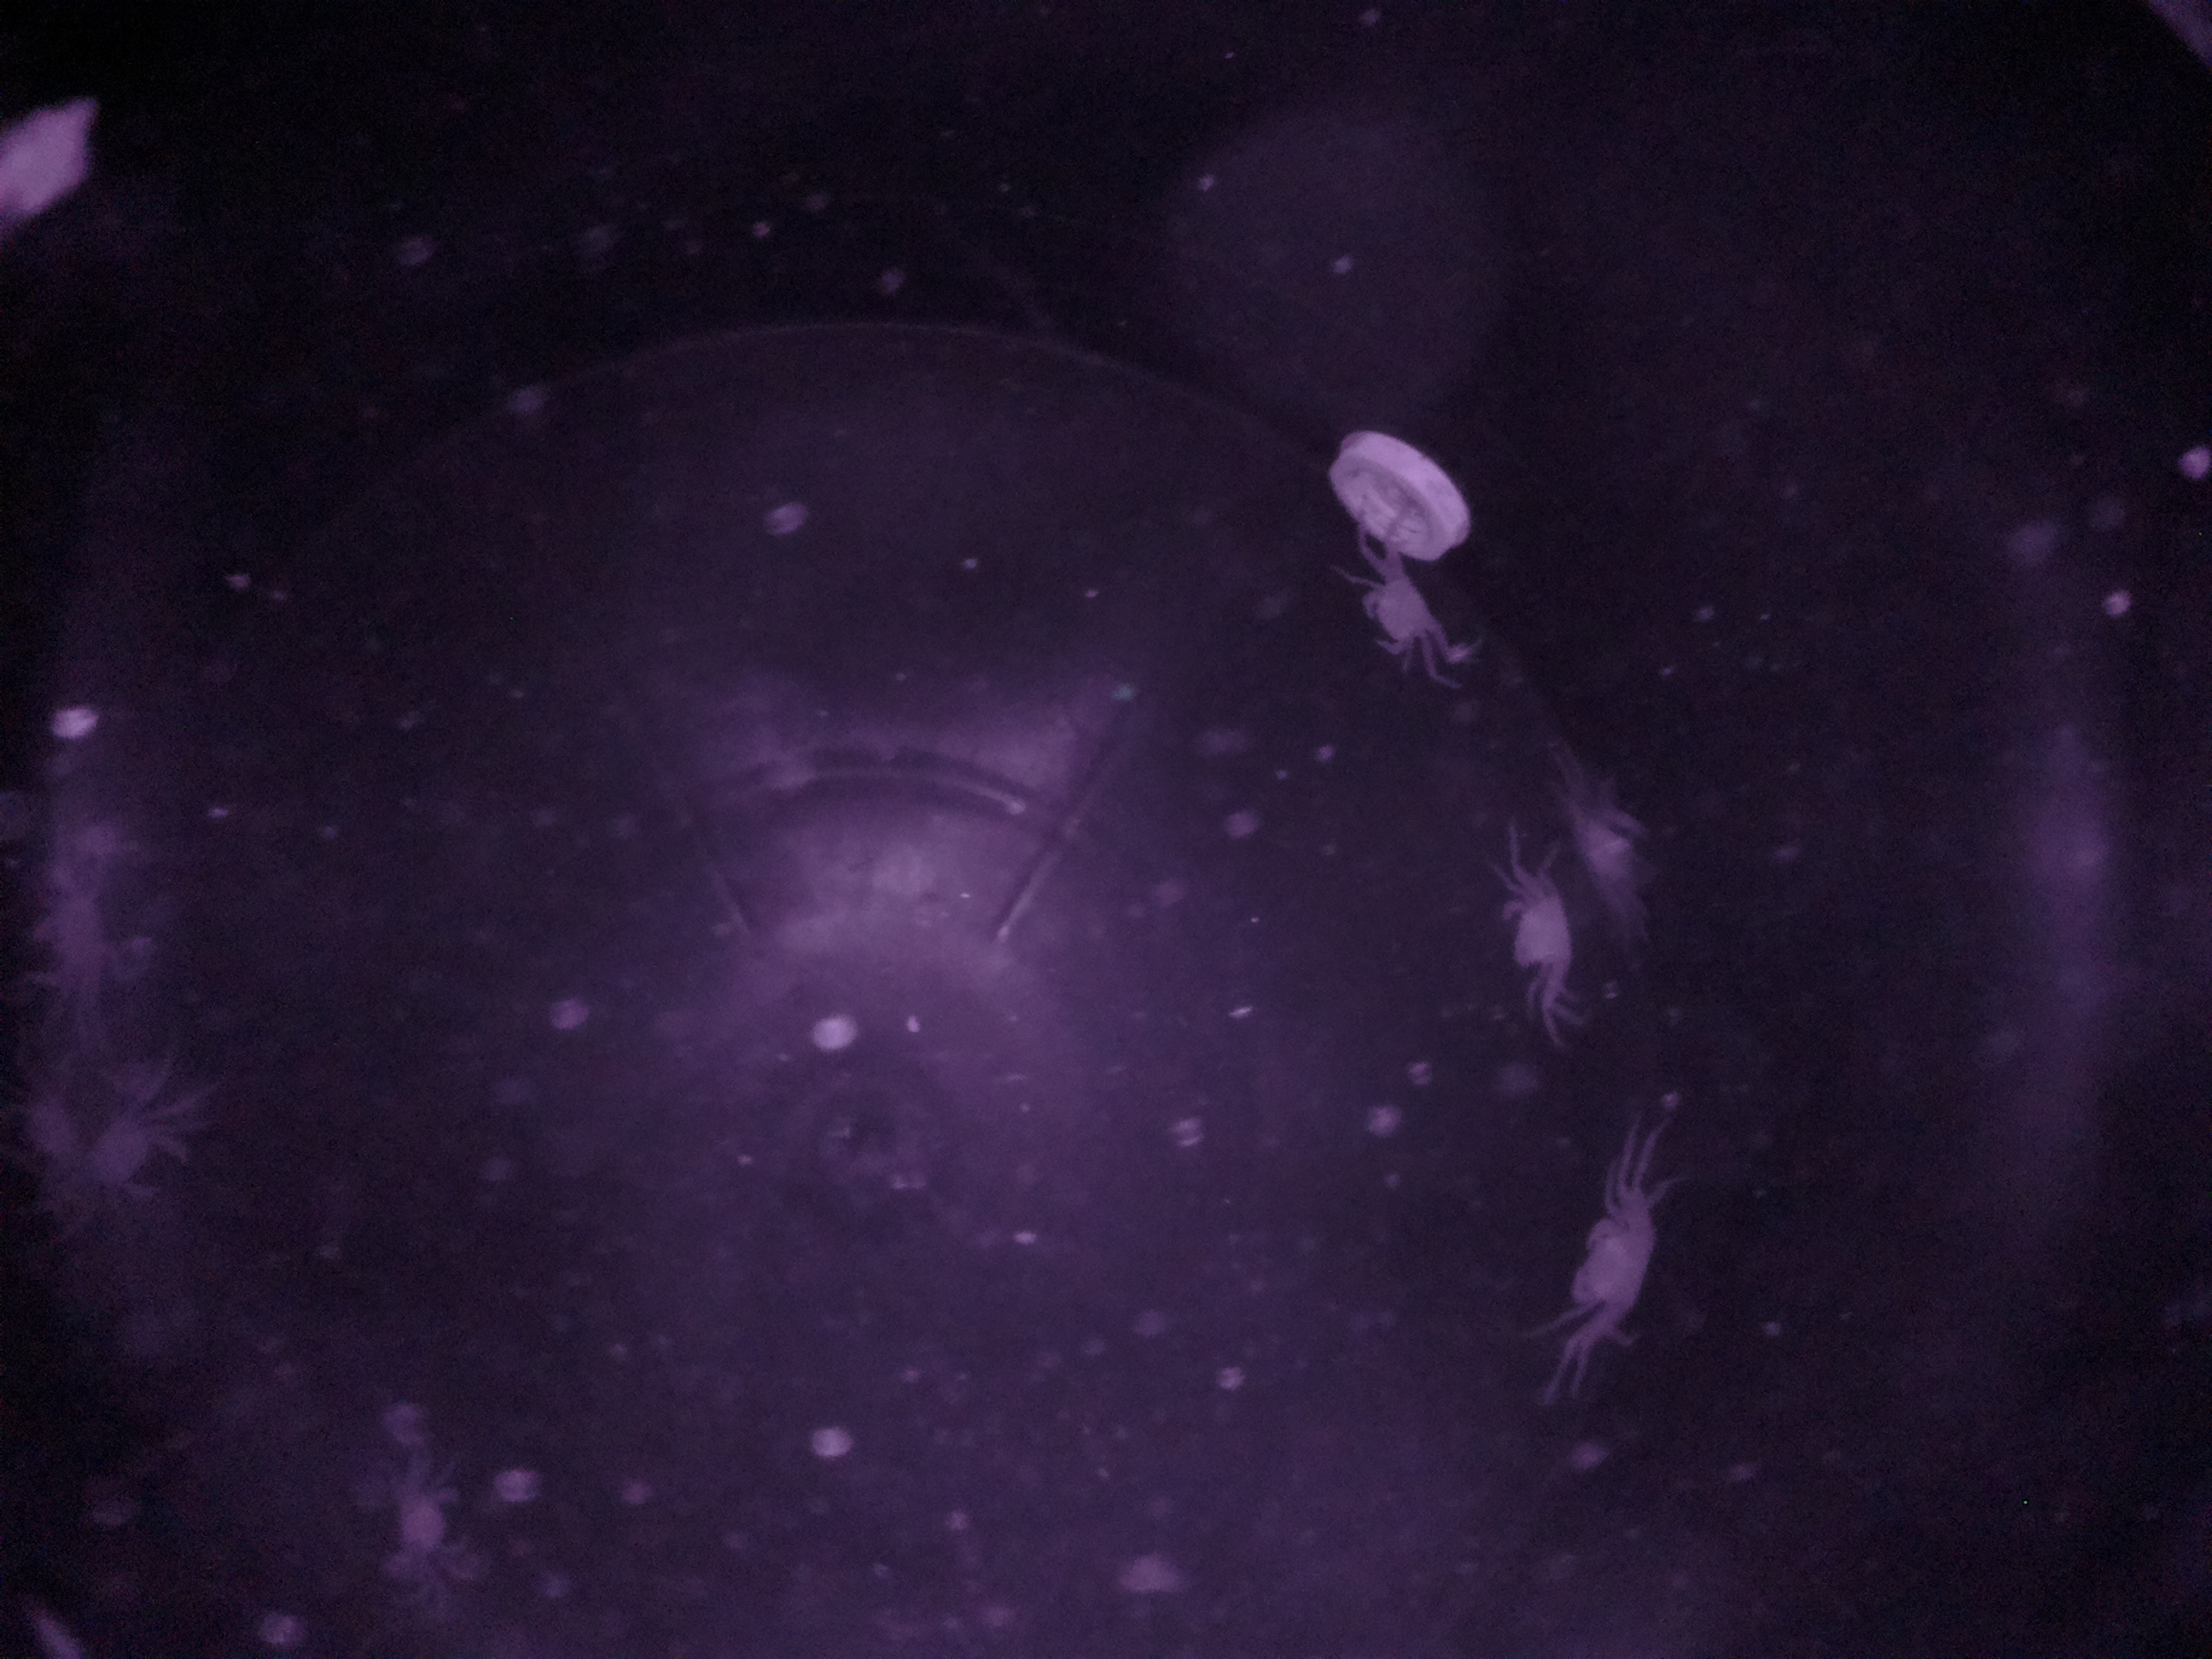Crab: (1545, 1192, 1676, 1361), (1343, 544, 1456, 678), (1493, 856, 1583, 999)
